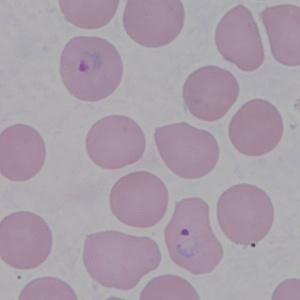Infected: (165, 196, 225, 276), (61, 35, 123, 102)
Uninfected: (85, 231, 160, 291), (153, 121, 219, 180), (218, 180, 273, 247), (213, 6, 265, 73), (182, 64, 242, 121), (85, 114, 147, 169), (109, 172, 168, 229), (0, 210, 54, 271), (228, 100, 285, 154), (122, 0, 184, 47), (0, 123, 47, 183), (258, 3, 300, 64)
